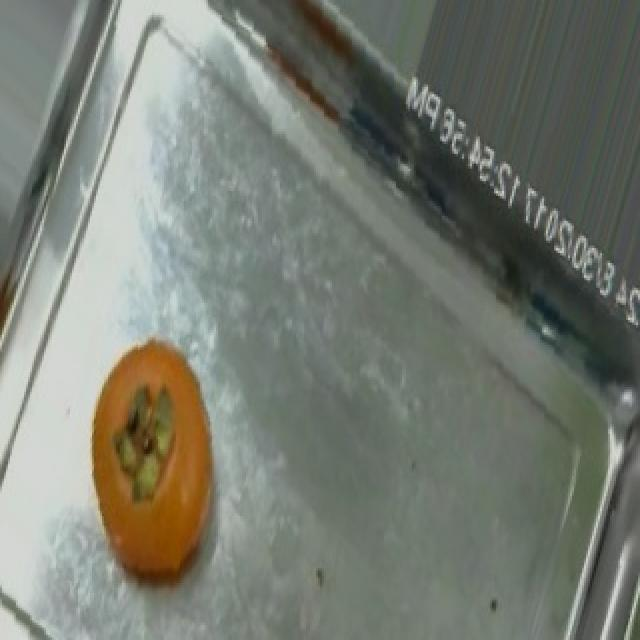Fruit: (62, 315, 240, 603)
